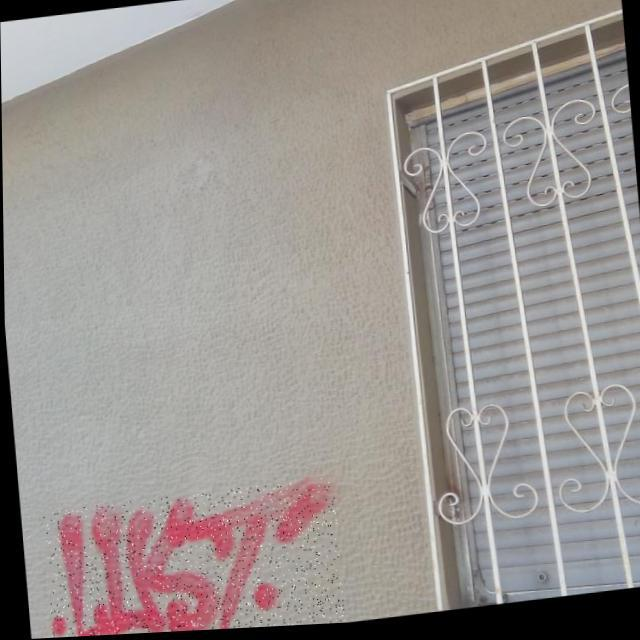-: (39, 479, 342, 638)
